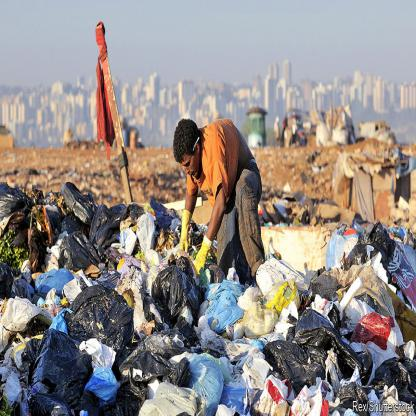Garbage: (1, 273, 416, 416), (1, 190, 177, 416)
